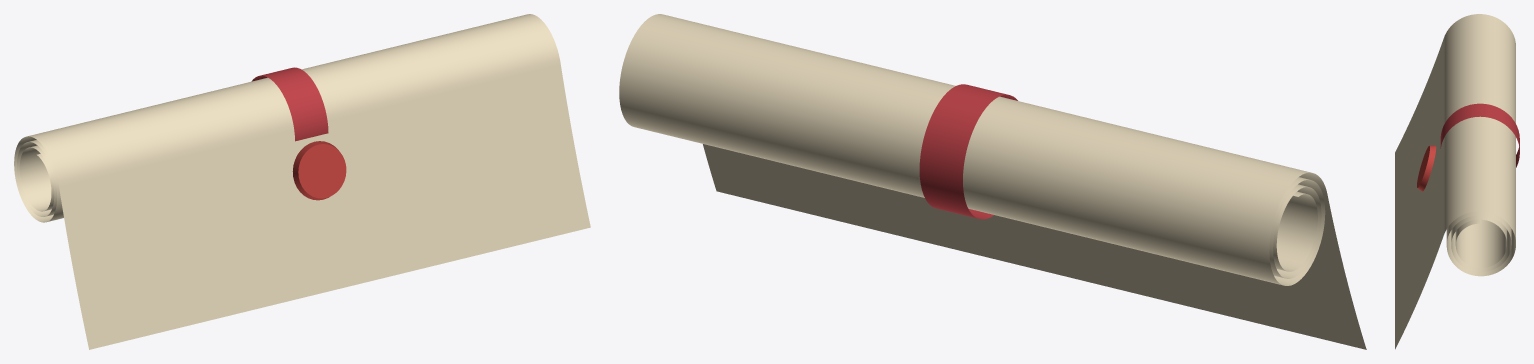
The model's file is diploma.glb.
3 views of the same model, side by side, from view 1: azimuth 30°, elevation 25°; view 2: azimuth 150°, elevation 25°; view 3: azimuth 270°, elevation 25° (orthographic). The views are drawn at different scales.
Parts seen in each view (by area): view 1: Paper, Ribbon, Seal; view 2: Paper, Ribbon; view 3: Paper, Ribbon, Seal.
Part boxes in pixels (x1,y1,x2,y2): Paper: [14, 14, 590, 349]; Ribbon: [251, 67, 328, 141]; Seal: [292, 141, 346, 200]; Paper: [619, 14, 1366, 349]; Ribbon: [919, 84, 1017, 219]; Paper: [1395, 14, 1515, 349]; Ribbon: [1440, 103, 1519, 167]; Seal: [1417, 145, 1436, 191].
Bounding box in the file's own units: 3.6 × 1.2 × 0.9629.
